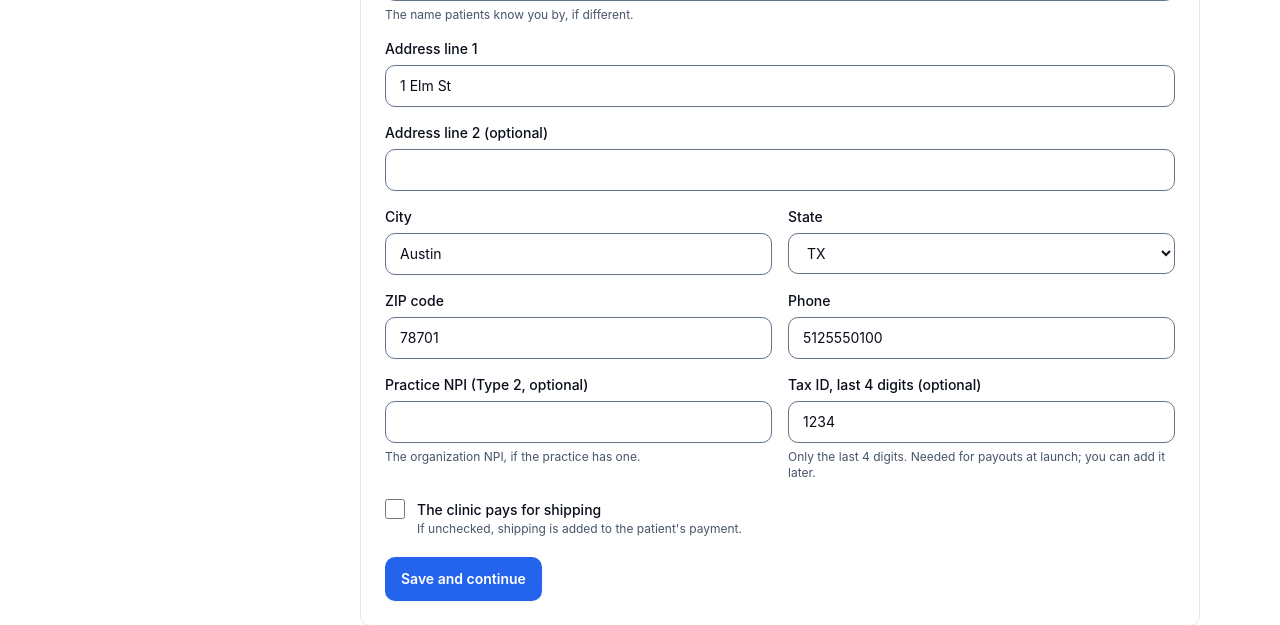
saving another step updates the step list too
The width and height of the screenshot is (1280, 625).
(page scrolled)
Click the button "Save and continue".
click(463, 579)  # box [385,557,542,601]
(page scrolled)
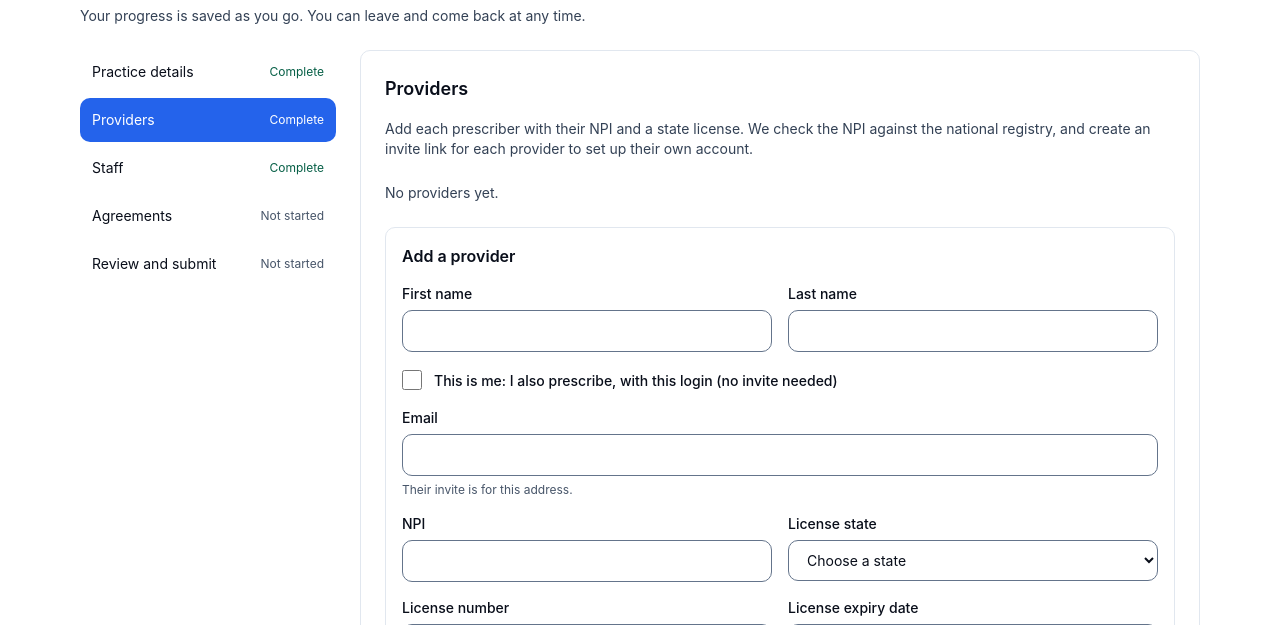
Now the button "Practice details Complete" is shown, box [80,50,336,94]
